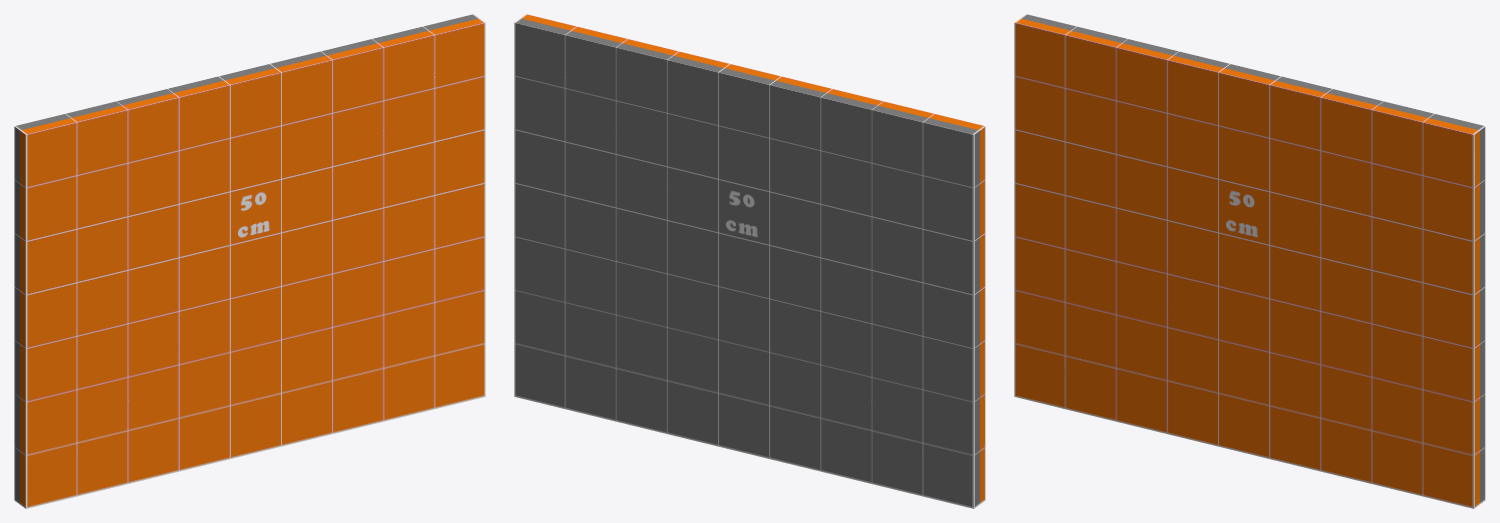
Rendered from M01Wall01_1.FBX.
3 renders of one model, left to right at view 1: azimuth 30°, elevation 25°; view 2: azimuth 150°, elevation 25°; view 3: azimuth 330°, elevation 25°, orthographic.
Parts seen in each view (by area): view 1: M01Wall01_1; view 2: M01Wall01_1; view 3: M01Wall01_1.
Part boxes in pixels (bbox=[...]): M01Wall01_1: bbox=[14, 14, 485, 508]; M01Wall01_1: bbox=[514, 14, 985, 508]; M01Wall01_1: bbox=[1014, 14, 1485, 508].
Size of what is drawn, in the model's own units: 4.5 by 3.5 by 0.2.
